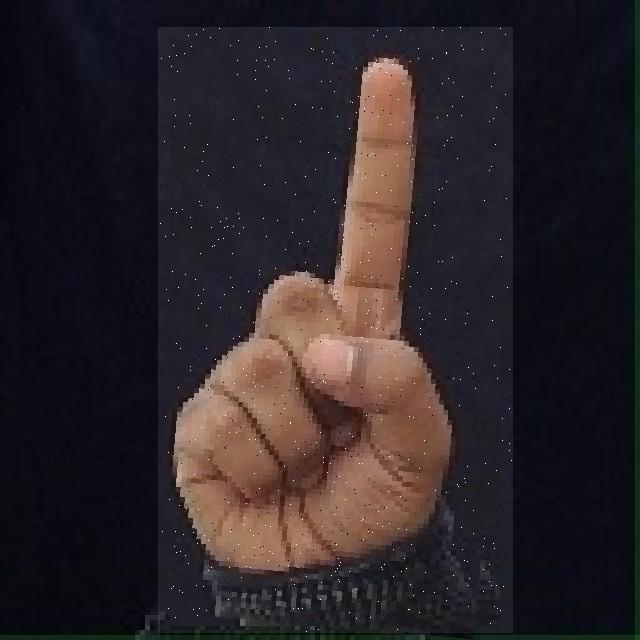IloveYou: (158, 27, 513, 633)
